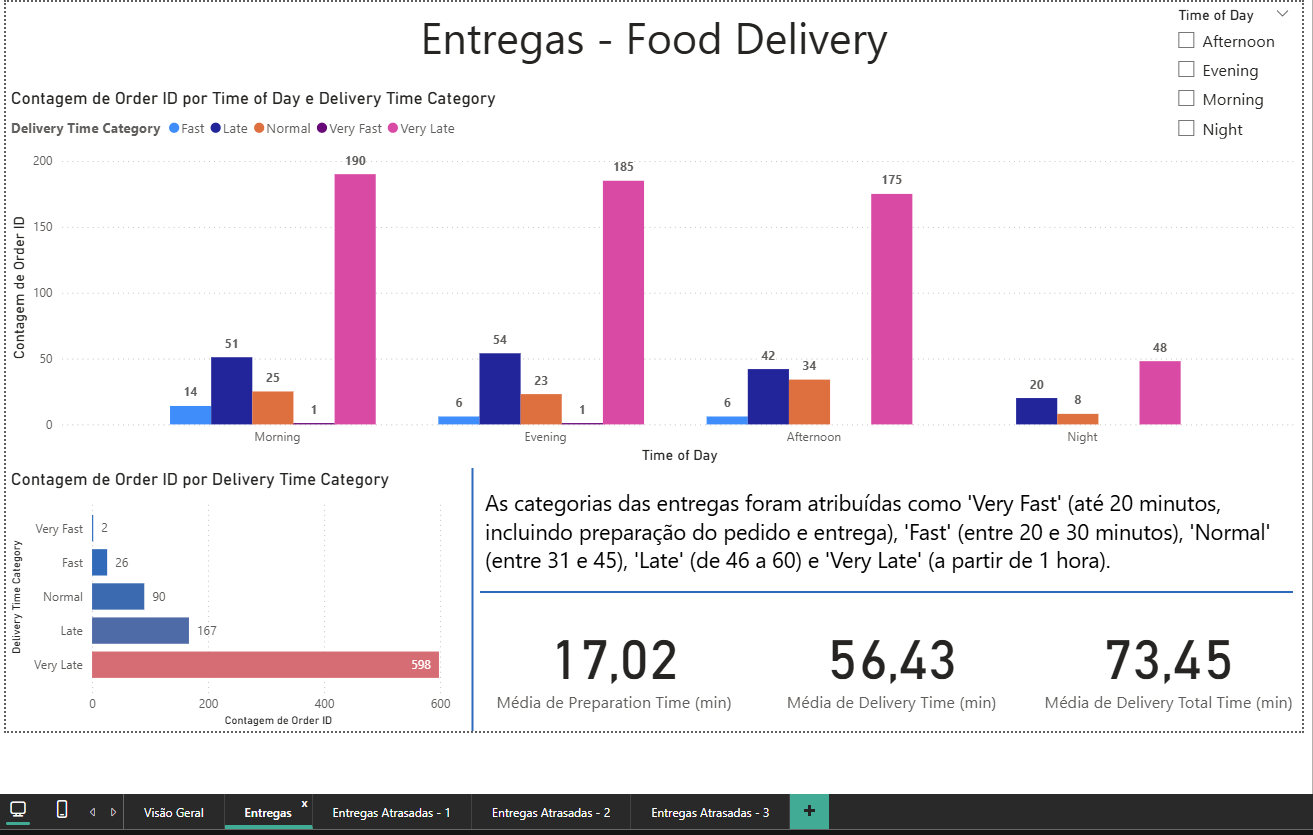

What the dashboard file says about the page in this screenshot:
{"tool":"powerbi","page":{"name":"Entregas","canvas":[1280,720],"ordinal":1},"visuals":[{"type":"lineClusteredColumnComboChart","fields":{"Category":["df_food_delivery.Time of Day"],"Y":["CountNonNull(df_food_delivery.Order ID)"],"Series":["df_food_delivery.Delivery Time Category"]},"box":[0,85.3,1280,375.6],"z":0},{"type":"textbox","box":[0,0,1280,70.2],"z":1000},{"type":"card","fields":{"Values":["Avg(df_food_delivery.Preparation Time (min))"]},"box":[467.7,586,264.8,134.3],"z":2000},{"type":"card","fields":{"Values":["Avg(df_food_delivery.Delivery Time (min))"]},"box":[732.5,586,283.6,134.3],"z":3000},{"type":"slicer","fields":{"Values":["df_food_delivery.Time of Day"]},"box":[1144.8,0,135.2,144.6],"z":4000},{"type":"barChart","fields":{"Category":["df_food_delivery.Delivery Time Category"],"Y":["CountNonNull(df_food_delivery.Order ID)"]},"box":[0,460.9,468.2,258.7],"z":5000},{"type":"textbox","box":[468.2,475.5,811.8,99.5],"z":6000},{"type":"card","fields":{"Values":["Avg(df_food_delivery.Delivery Total Time (min))"]},"box":[1016.1,586,263.9,134.3],"z":7000},{"type":"shape","box":[468.1,574.8,803,15.8],"z":7001},{"type":"shape","box":[453.3,460.2,14.8,259.8],"z":7002}]}

Visuals, with their boxes on the page's 1280x720 design canvas (x1, y1, x2, y2). These are canvas units, not pixel positions in the 1313x835 screenshot, which may show the page scaled, cropped or inside an application window:
lineClusteredColumnComboChart - df_food_delivery.Time of Day x CountNonNull(df_food_delivery.Order ID): {"left": 0, "top": 85, "right": 1280, "bottom": 461}
textbox: {"left": 0, "top": 0, "right": 1280, "bottom": 70}
card - Avg(df_food_delivery.Preparation Time (min)): {"left": 468, "top": 586, "right": 732, "bottom": 720}
card - Avg(df_food_delivery.Delivery Time (min)): {"left": 732, "top": 586, "right": 1016, "bottom": 720}
slicer - df_food_delivery.Time of Day: {"left": 1145, "top": 0, "right": 1280, "bottom": 145}
barChart - df_food_delivery.Delivery Time Category x CountNonNull(df_food_delivery.Order ID): {"left": 0, "top": 461, "right": 468, "bottom": 720}
textbox: {"left": 468, "top": 476, "right": 1280, "bottom": 575}
card - Avg(df_food_delivery.Delivery Total Time (min)): {"left": 1016, "top": 586, "right": 1280, "bottom": 720}
shape: {"left": 468, "top": 575, "right": 1271, "bottom": 591}
shape: {"left": 453, "top": 460, "right": 468, "bottom": 720}
